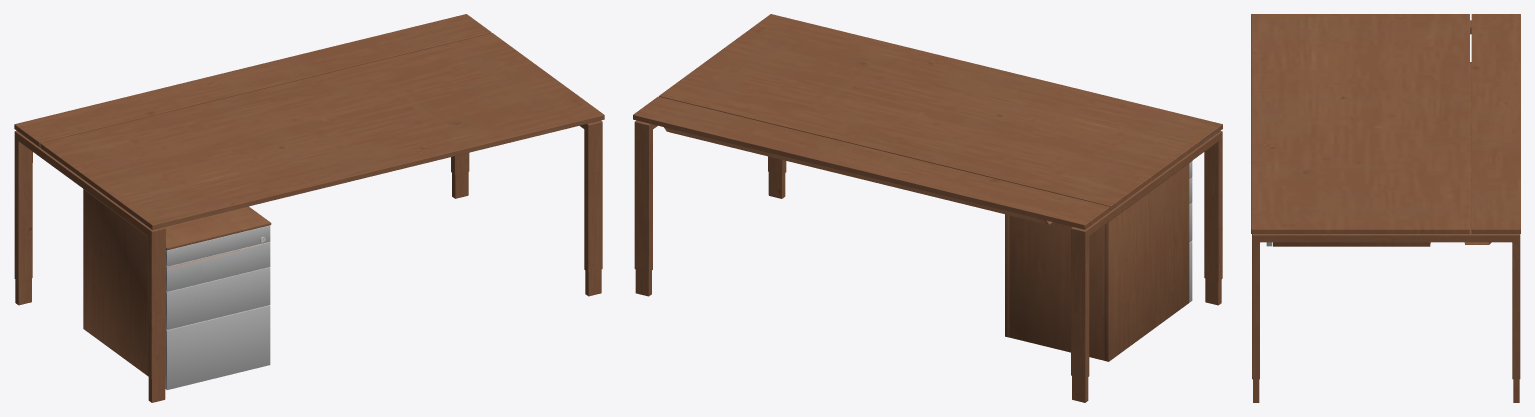
Rendered from desk-mobile.glb.
3 views of the same model, side by side, from view 1: azimuth 30°, elevation 25°; view 2: azimuth 150°, elevation 25°; view 3: azimuth 270°, elevation 25° (orthographic). The views are drawn at different scales.
Visible parts, largest first — view 1: Drawer Desk - Realistic; view 2: Drawer Desk - Realistic; view 3: Drawer Desk - Realistic.
Boxes of the visible parts, box(x1,y1,x2,y2) form: Drawer Desk - Realistic: box(14, 14, 604, 402); Drawer Desk - Realistic: box(633, 14, 1222, 402); Drawer Desk - Realistic: box(1251, 14, 1520, 402).
Size of the model in its own units: 1.87 by 0.7049 by 0.9879.
1 material, 1 textured.
